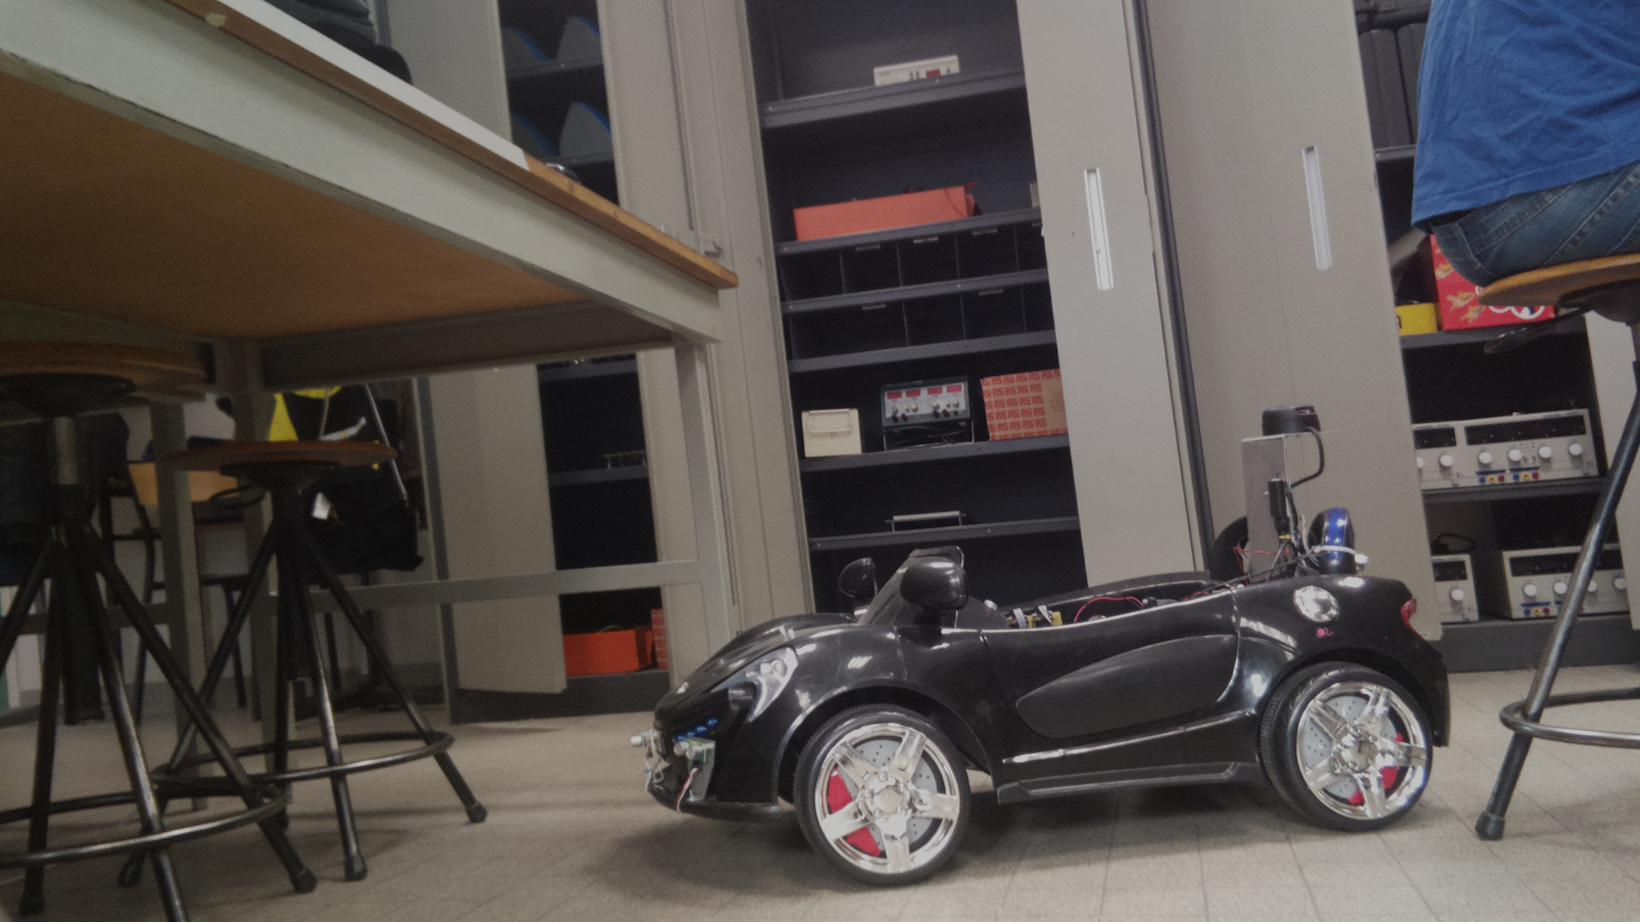big: (630, 400, 1450, 881)
